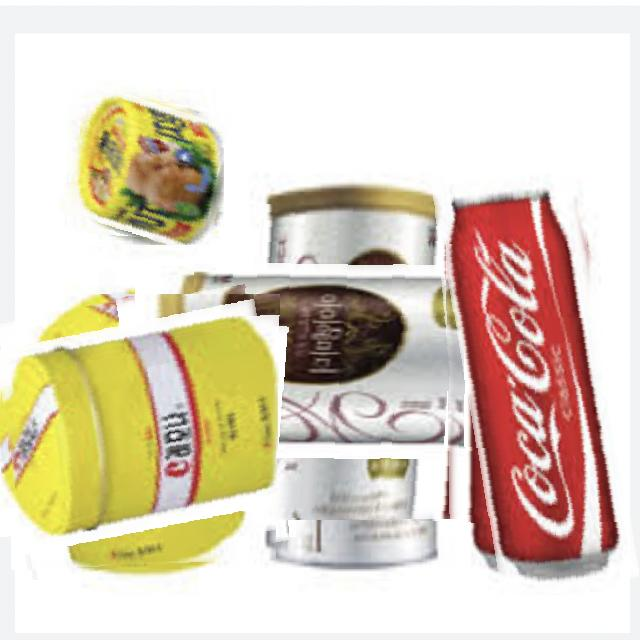recyclable: (194, 205, 509, 521), (444, 142, 623, 595), (1, 294, 280, 571), (63, 85, 224, 245)
